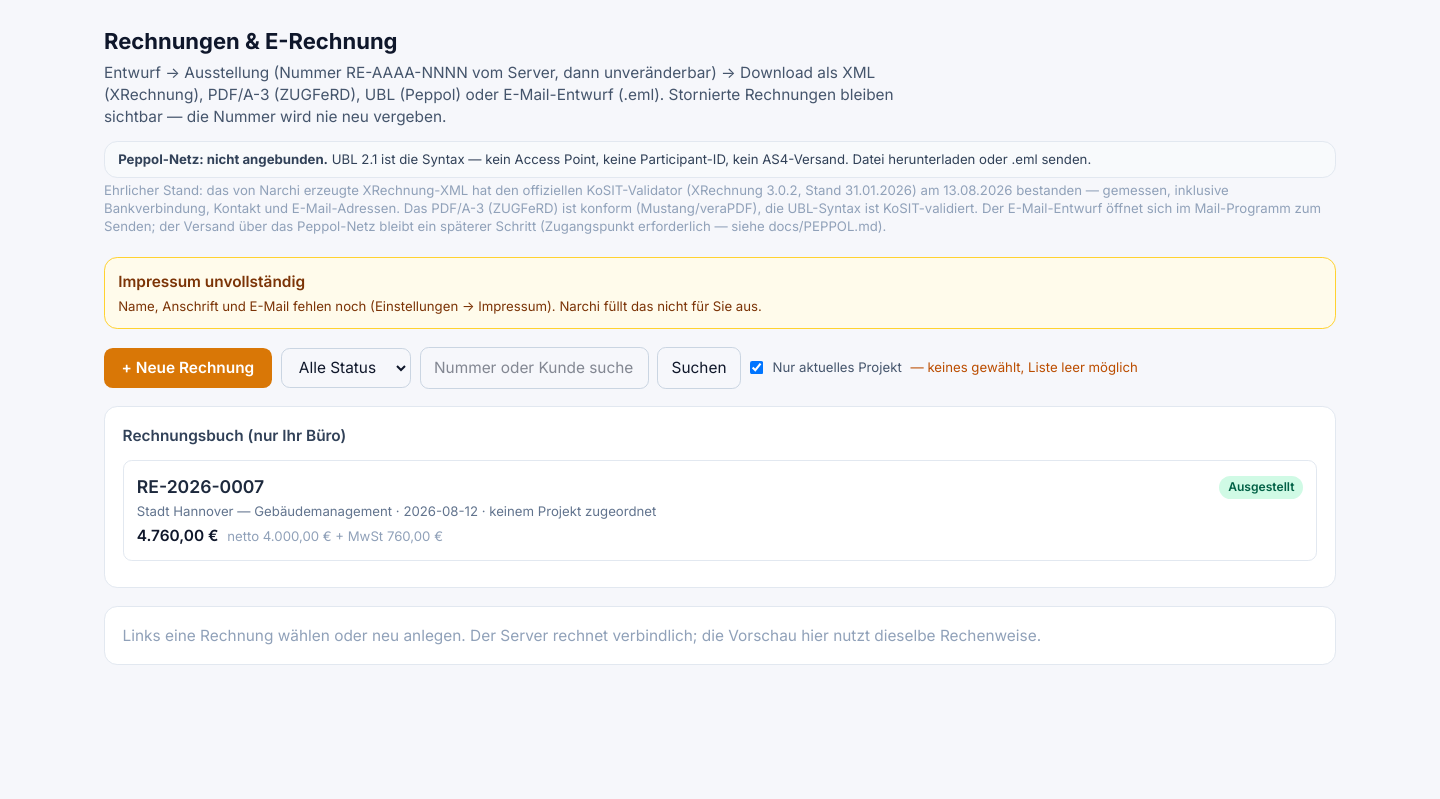
it: Page Rechnungen §116 › facture émise : bouton XML + storno avec MOTIF (jamais de suppression)
Click the button that starts with "RE-2026-0007": (201, 487) [123,460,1317,561]
(page scrolled)
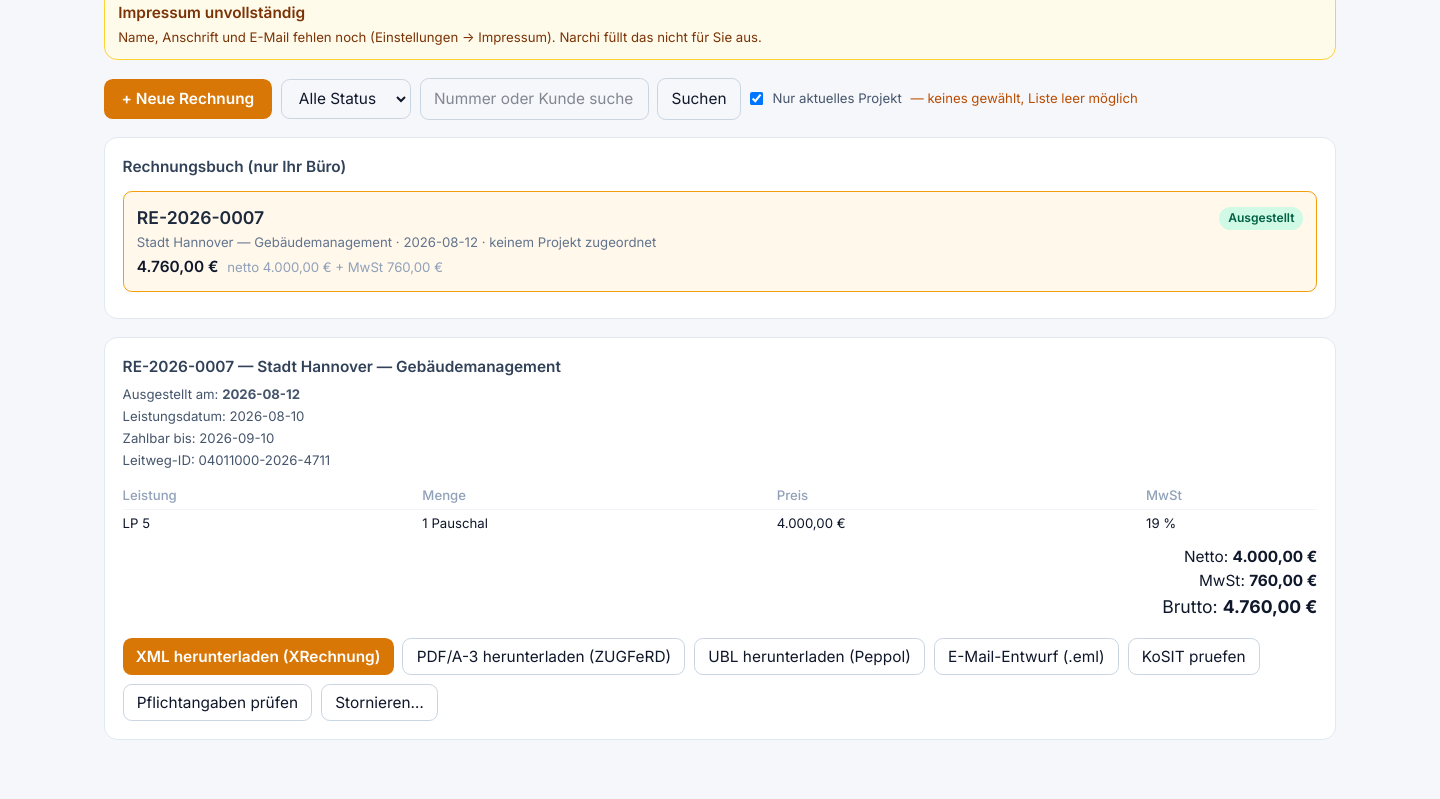
Expected: the text "RE-2026-0007" is shown, [137,205,264,232]
Expected: the button "XML herunterladen (XRechnung)" is shown, [123,638,394,675]
Expected: the button "Stornieren…" is shown
Click the button "Stornieren…": (380, 703) [321,684,438,721]
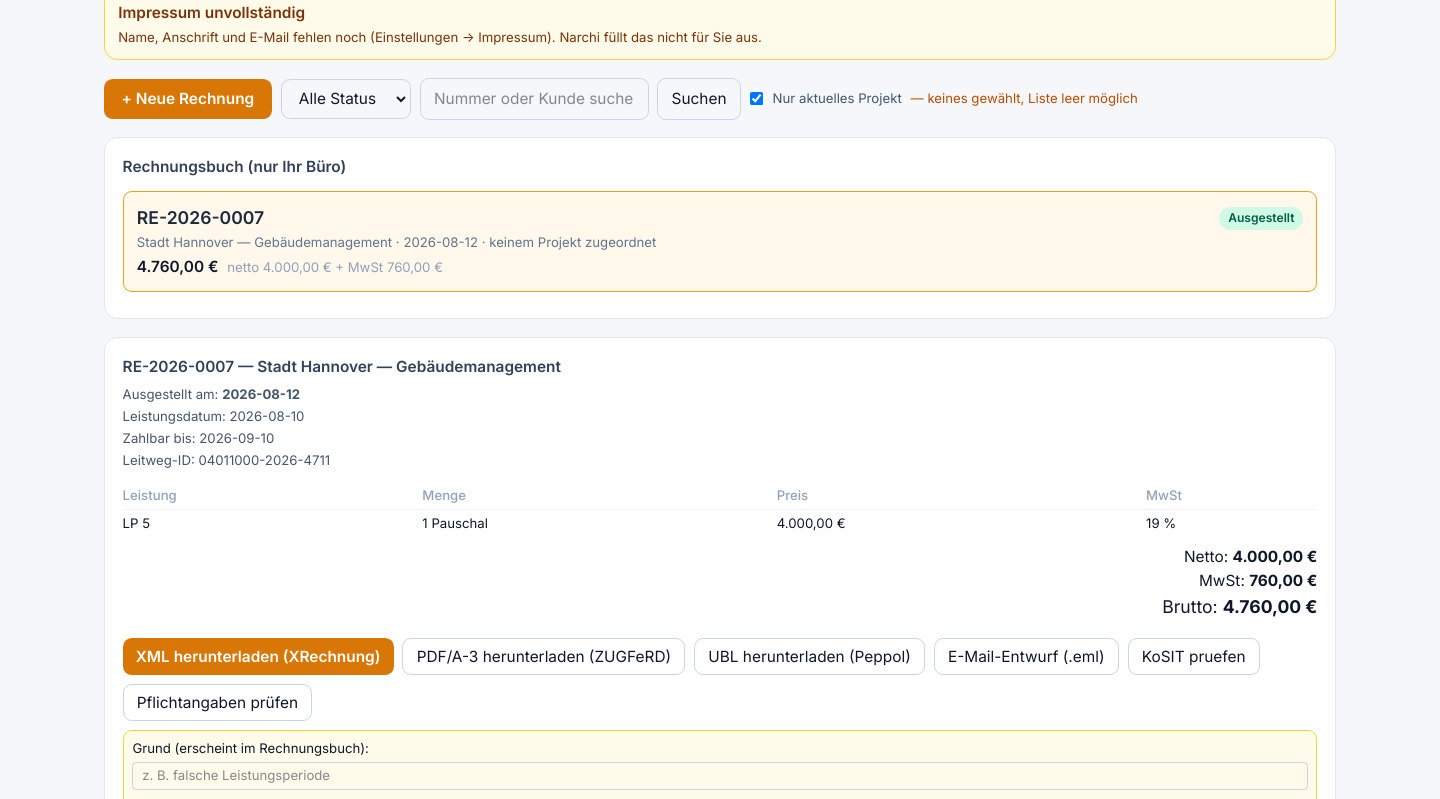
Expected: the field with id "rn-storno-reason" is shown, [132,762,1308,790]
